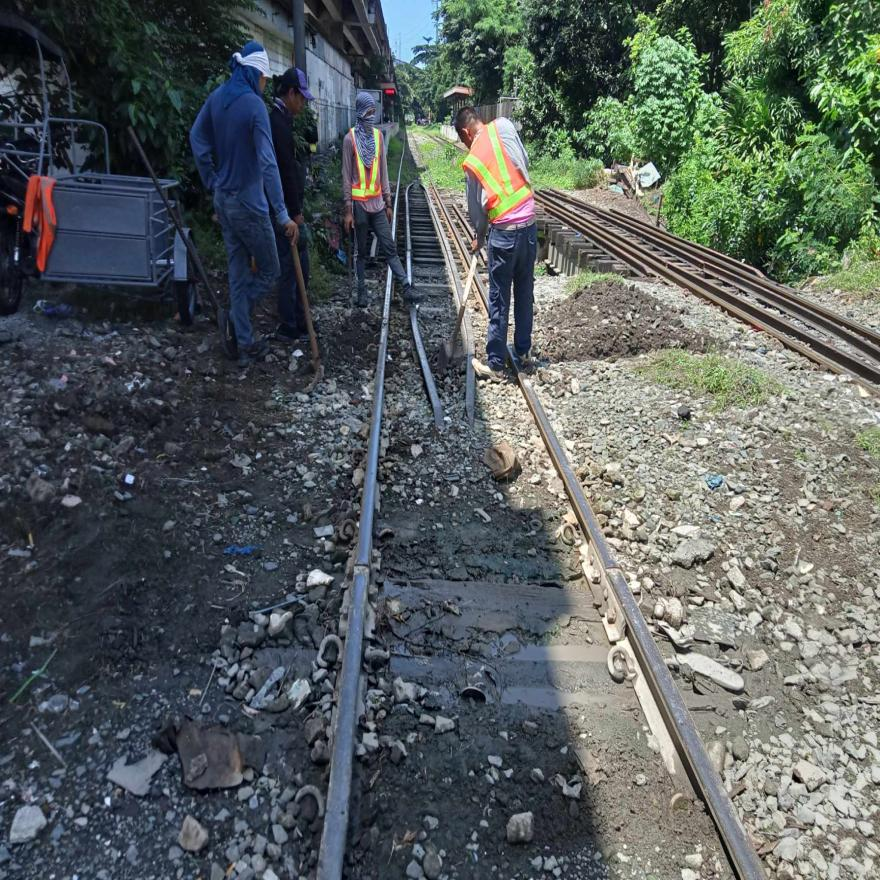railway-gap: (582, 534, 642, 599), (337, 534, 387, 602)
